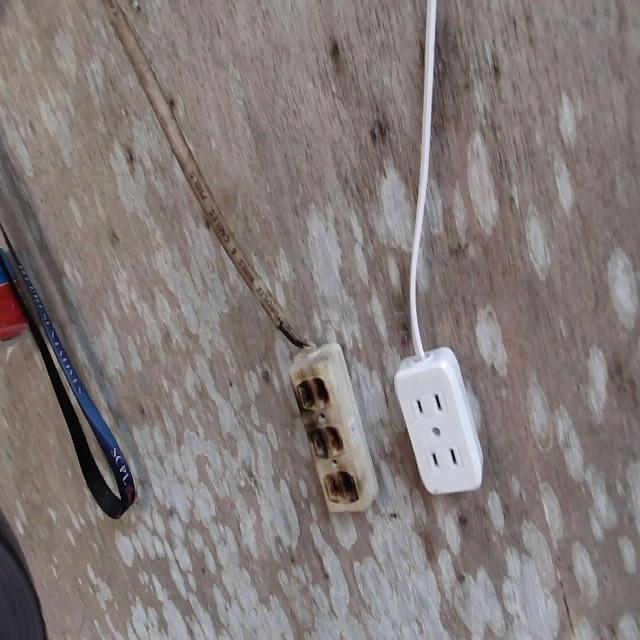-: (292, 373, 359, 507)
